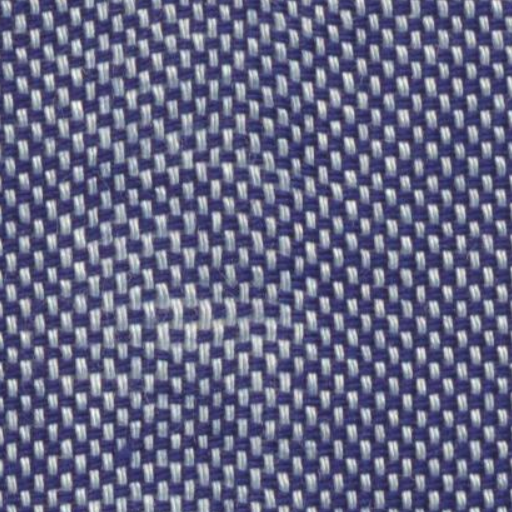TuoSha: (24, 18, 357, 479)
